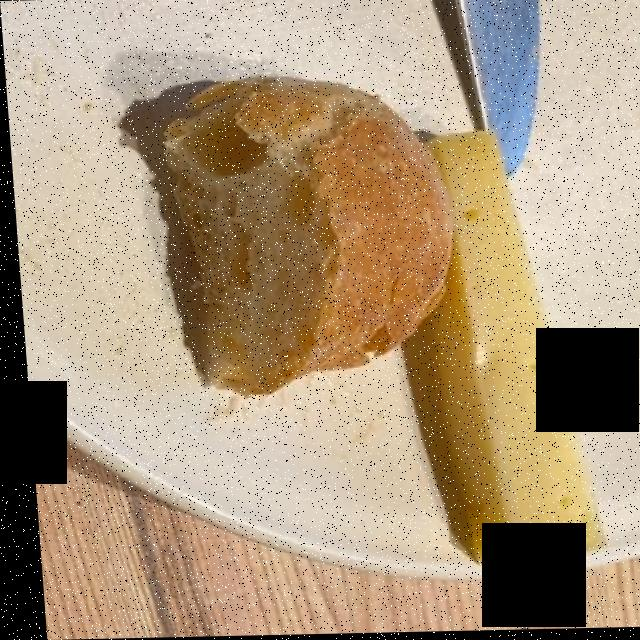bread-white: (167, 79, 443, 392)
cheese: (423, 124, 591, 564)
